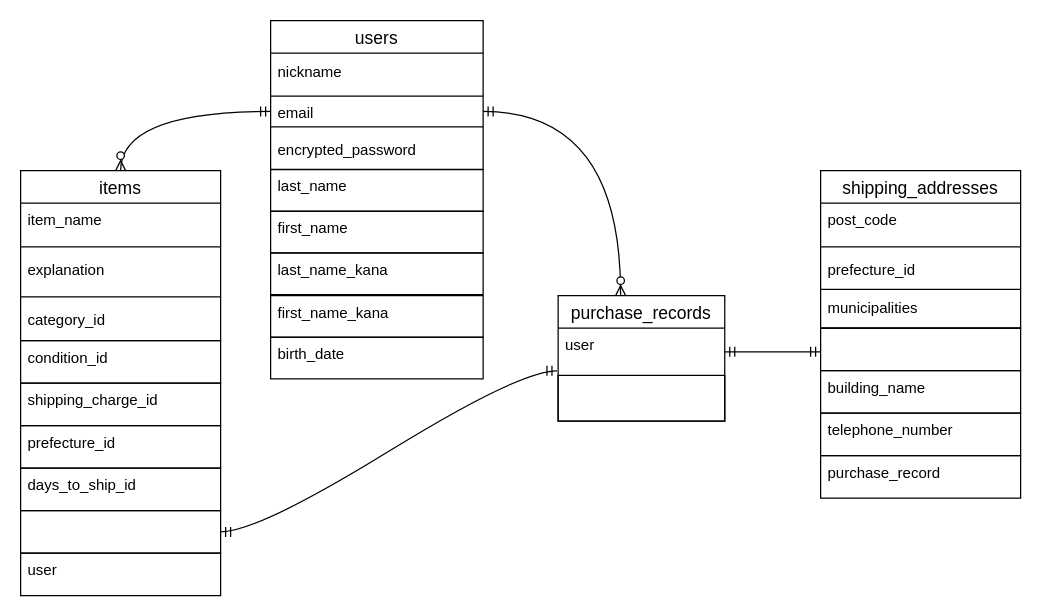
This 1041x616 diagram has some shape labels left out. The shapes that lost their labels are listed below. From the top down, each one's centre as x and y in pixels, then its label:
the point at 920,349: address
the point at 641,397: item
the point at 120,531: price
